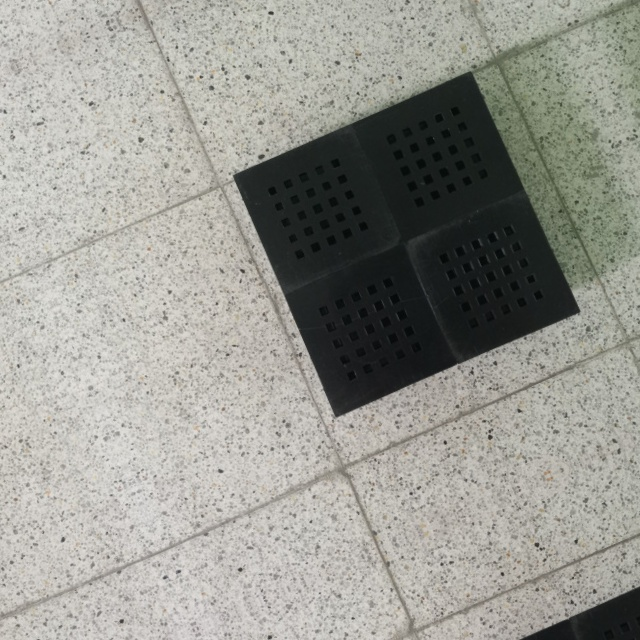pallet: (221, 57, 598, 426)
